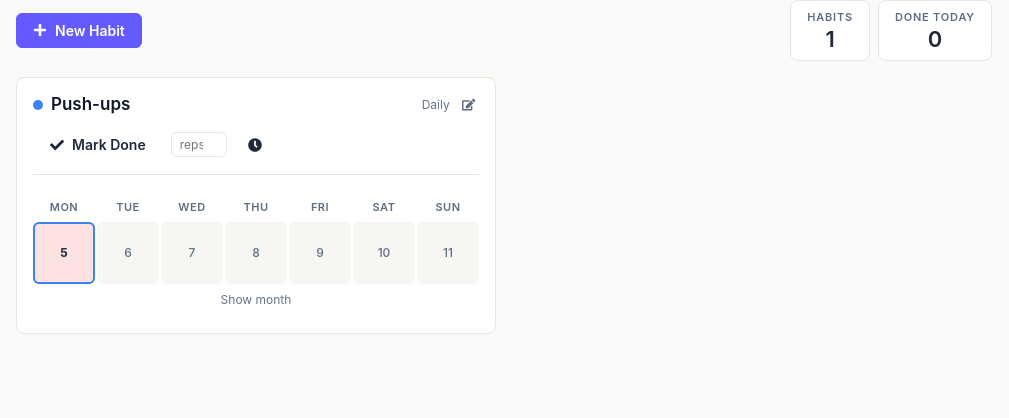
Test: HabitTracker › renders total as reps for a count habit
This screenshot has width=1009, height=418.
Expand the card to see the stat block
Click the heading "Push-ups". click: (91, 105)
box: [51,94,130,115]
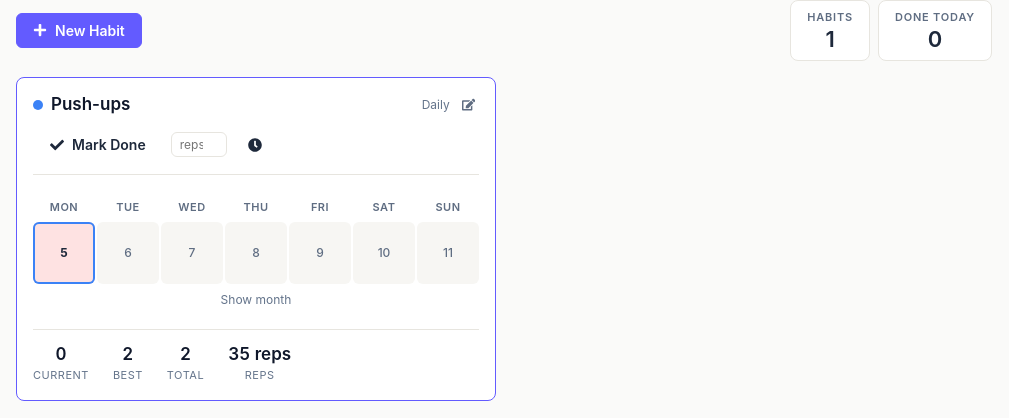
Result: the text "35 reps" is shown at [228,342,291,367]
